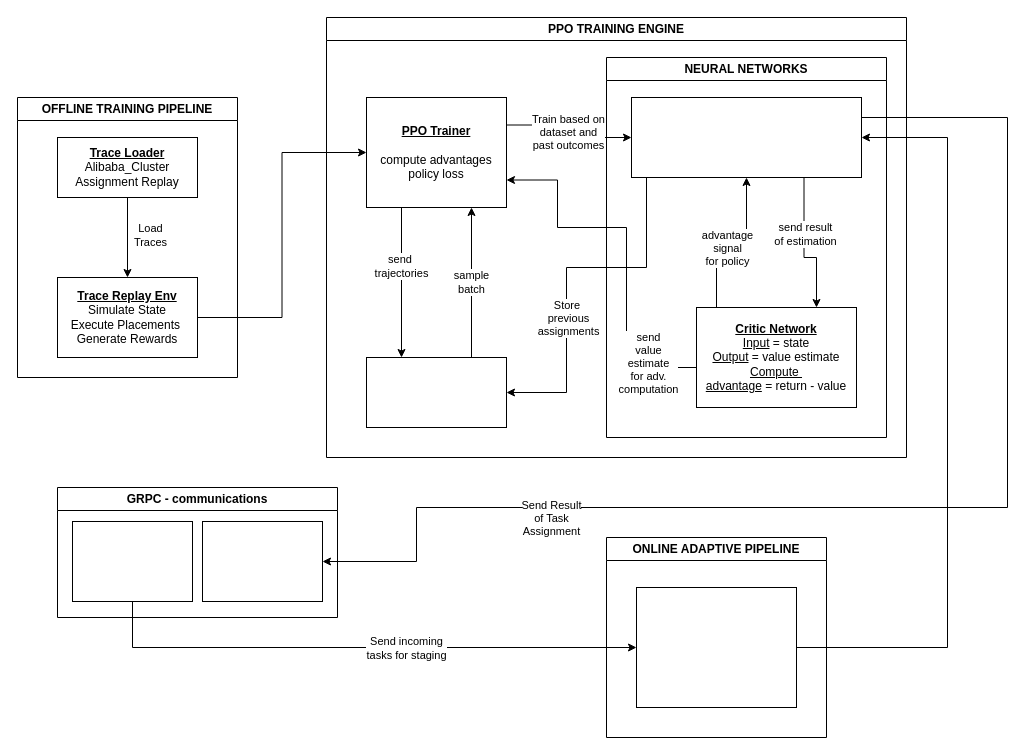
Some shapes in this 1033 by 755 pixel diagram are drawn without their labels. Here are the shapes that lost their labels. From the top down, the centre of each, then its label:
At pixel 746 137: "Actor Network Input = state Output = probability distribution of actions".
At pixel 436 392: "Replay Buffer store trajectories batch sampling".
At pixel 132 561: "Incoming Tasks Task Config Workers State Prev Scheduling".
At pixel 262 561: "Report Assignment Task to worker assignment".
At pixel 716 647: "STAGING Prepare incoming tasks to be sent to Actor Network for evaluation".
